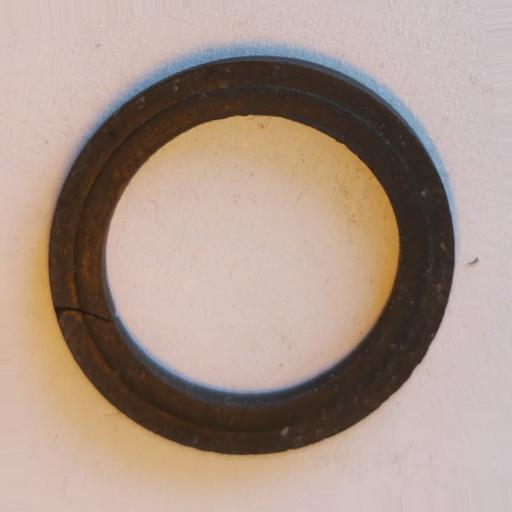defect: (55, 305, 113, 327)
